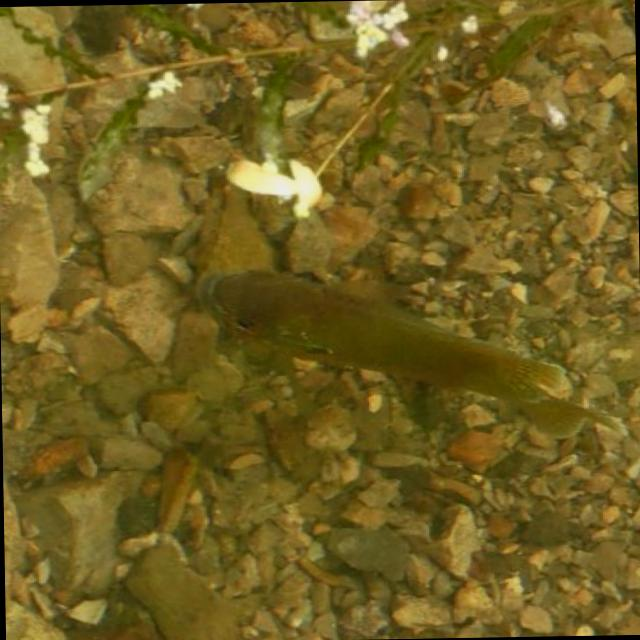Gunes Levregi: (190, 258, 625, 443)
